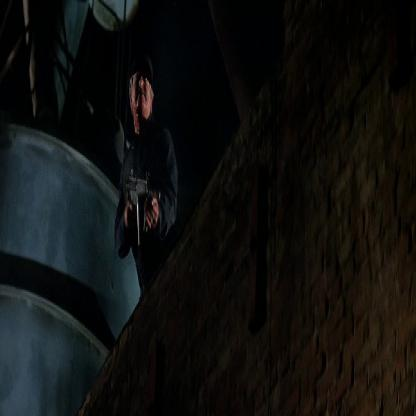Guns: (121, 164, 163, 250)
